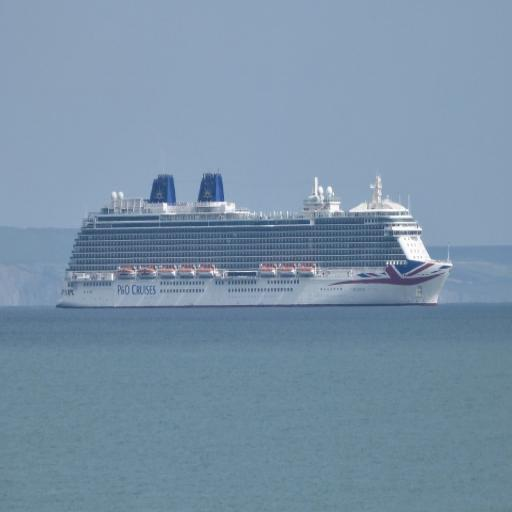cruises: (58, 161, 458, 320)
